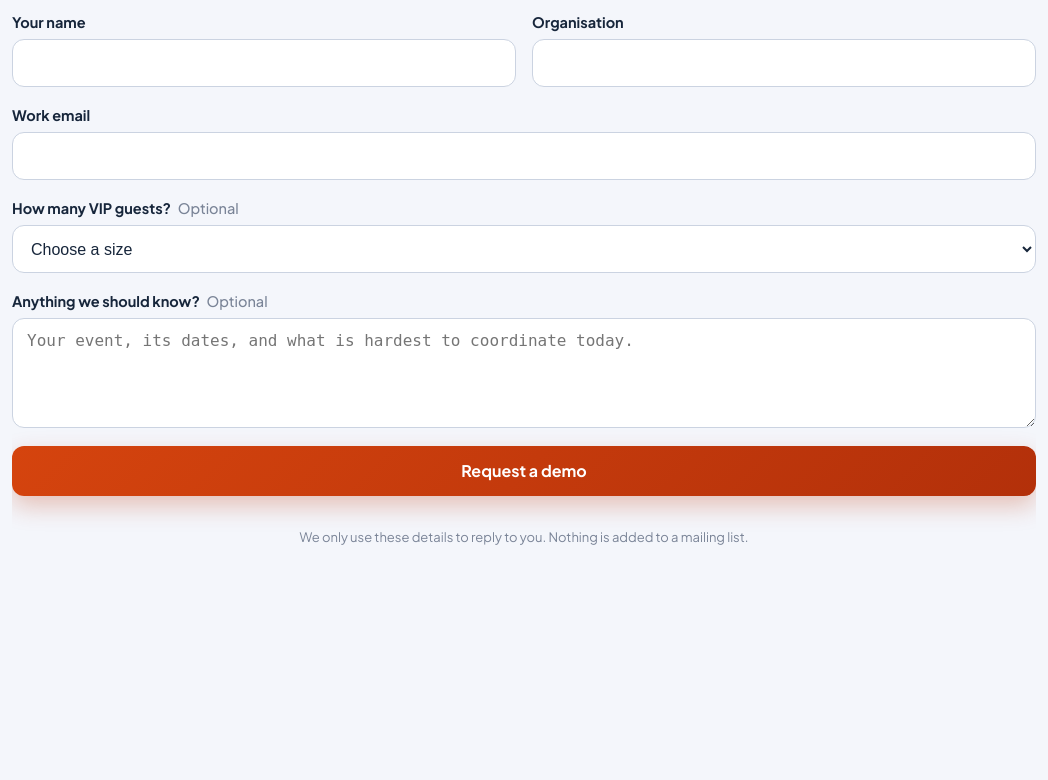
Test: DemoRequestForm › says which fields are missing and sends nothing
Click the button "Request a demo" at (524, 471), box x1=12 y1=446 x2=1036 y2=496
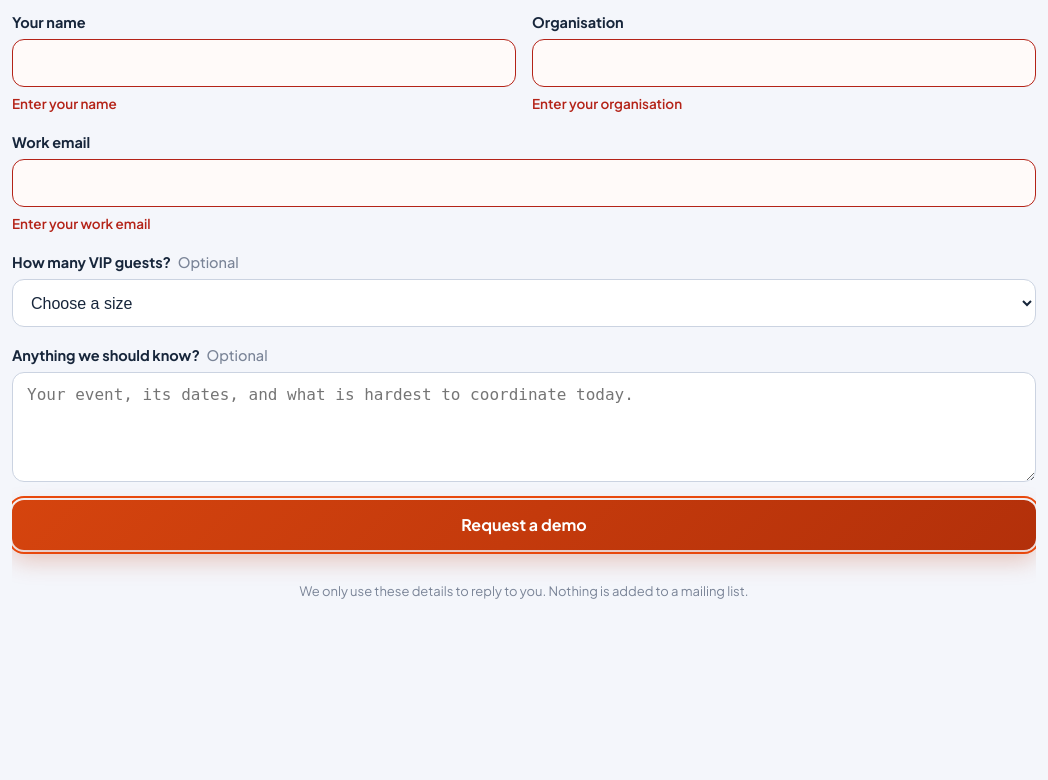
Result: the text "Enter your name" is shown at x1=12 y1=95 x2=117 y2=112
Result: the text "Enter your organisation" is shown at x1=532 y1=95 x2=682 y2=112
Result: the text "Enter your work email" is shown at x1=12 y1=215 x2=151 y2=232
